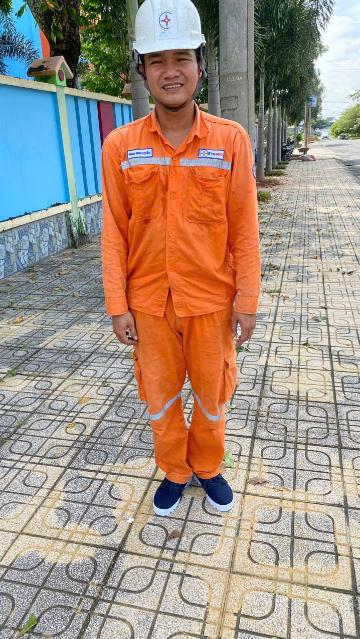helmet: (120, 0, 225, 73)
shoes: (189, 463, 253, 526), (138, 468, 188, 524)
